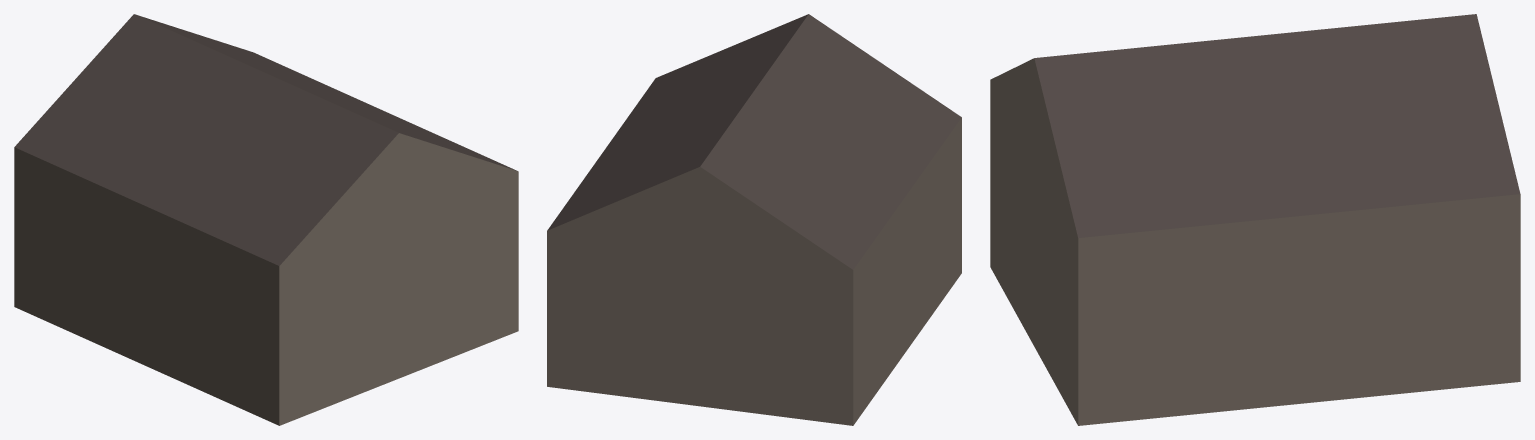
3 views of the same model, side by side, from view 1: azimuth 30°, elevation 25°; view 2: azimuth 150°, elevation 25°; view 3: azimuth 270°, elevation 25° (orthographic). The views are drawn at different scales.
Visible parts, largest first — view 1: HP-w859447885; view 2: HP-w859447885; view 3: HP-w859447885.
Part boxes in pixels (<box>): HP-w859447885: <box>14,14,518,425</box>; HP-w859447885: <box>547,14,961,425</box>; HP-w859447885: <box>990,14,1520,425</box>.
Bounding box in the file's own units: 13.88 × 9.22 × 15.34.
